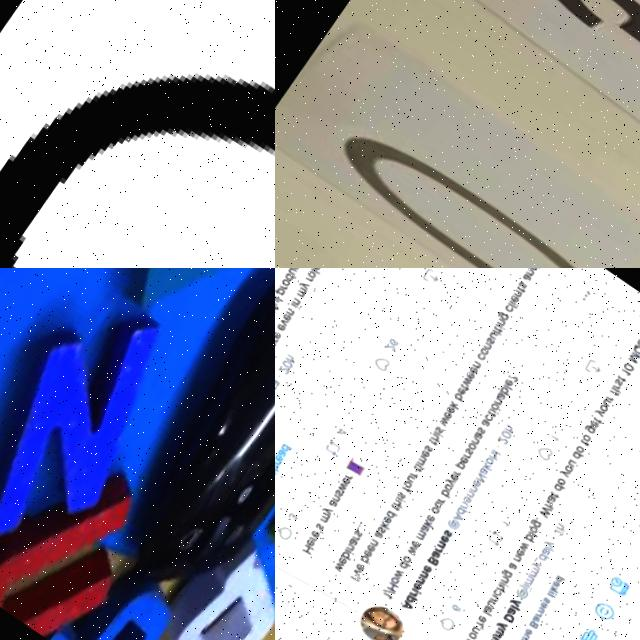0: (301, 98, 640, 268), (624, 354, 640, 369), (503, 424, 517, 437), (283, 357, 298, 369)
1: (387, 588, 400, 599), (623, 363, 635, 373), (558, 523, 569, 532), (553, 429, 564, 438), (505, 516, 515, 524)
2: (500, 430, 514, 442), (281, 363, 294, 374), (387, 340, 400, 350)
3: (508, 0, 640, 143), (292, 509, 305, 521)
4: (340, 424, 352, 436)
6: (457, 599, 469, 610), (390, 335, 402, 345)
P: (61, 547, 197, 640)
Q: (154, 526, 275, 640)
U: (0, 0, 275, 268), (0, 439, 174, 640)
